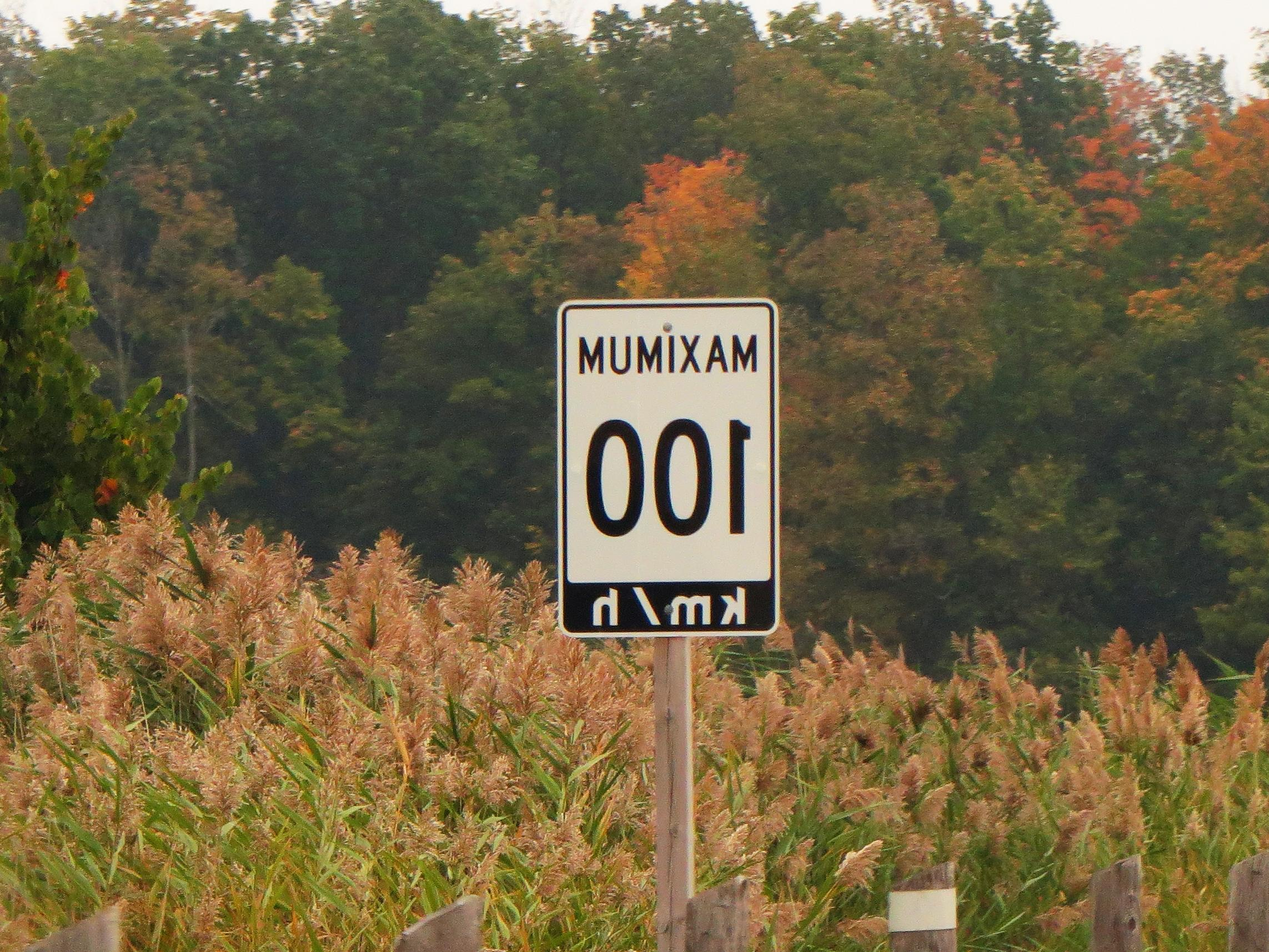speed limit sign: (631, 260, 831, 571)
